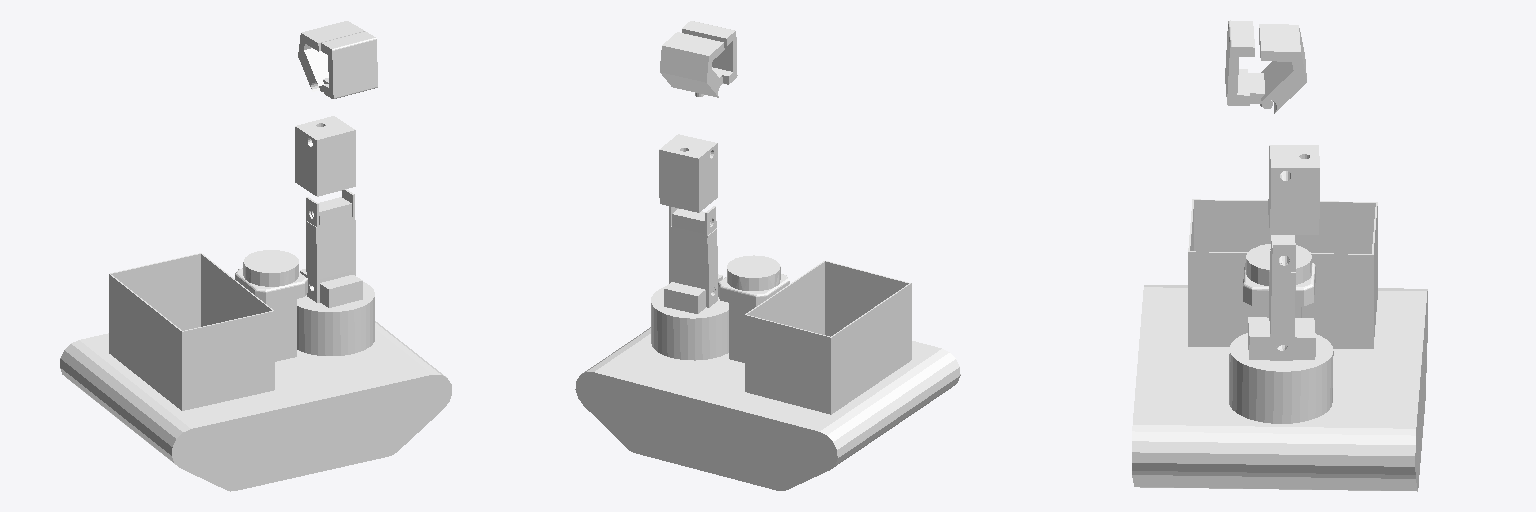
robot.urdf — collectorarmv3:
<?xml version="1.0" encoding="utf-8" ?>
<!-- This URDF was automatically created by SolidWorks to URDF Exporter! Originally created by [author] ([email redacted]) 
     Commit Version: 1.6.0-4-g7f85cfe  Build Version: 1.6.7995.38578
     For more information, please see http://wiki.ros.org/sw_urdf_exporter -->
<robot name="collectorarmv3">
    <link name="base_link">
        <inertial>
            <origin xyz="-0.000431995749256772 -2.75875484660184E-06 -0.0406498758316452" rpy="0 0 0" />
            <mass value="10.9600818997221" />
            <inertia ixx="0.0945300643837808" ixy="-0.000223188735937972" ixz="0.000290844995432058" iyy="0.129474221651259" iyz="1.85713367578688E-06" izz="0.19332472651431" />
        </inertial>
        <visual>
            <origin xyz="0 0 0" rpy="0 0 0" />
            <geometry>
                <mesh filename="package://collectorarmv3/meshes/base_link.STL" />
            </geometry>
            <material name="">
                <color rgba="1 1 1 1" />
            </material>
        </visual>
        <collision>
            <origin xyz="0 0 0" rpy="0 0 0" />
            <geometry>
                <mesh filename="package://collectorarmv3/meshes/base_link.STL" />
            </geometry>
        </collision>
    </link>
    <link name="arm_base">
        <inertial>
            <origin xyz="3.96827550051507E-19 2.0171905535581E-18 0.0360865793498005" rpy="0 0 0" />
            <mass value="0.665047517627195" />
            <inertia ixx="0.000801321710505508" ixy="3.3881317890172E-21" ixz="-9.62737282624216E-21" iyy="0.0007819945070614" iyz="-5.9031349403871E-21" izz="0.000931687532031113" />
        </inertial>
        <visual>
            <origin xyz="0 0 0" rpy="0 0 0" />
            <geometry>
                <mesh filename="package://collectorarmv3/meshes/arm_base.STL" />
            </geometry>
            <material name="">
                <color rgba="1 1 1 1" />
            </material>
        </visual>
        <collision>
            <origin xyz="0 0 0" rpy="0 0 0" />
            <geometry>
                <mesh filename="package://collectorarmv3/meshes/arm_base.STL" />
            </geometry>
        </collision>
    </link>
    <joint name="arm_base" type="revolute">
        <origin xyz="0.1103 0.00070444 0" rpy="0.015992 0.00035692 -3.1094" />
        <parent link="base_link" />
        <child link="arm_base" />
        <axis xyz="0 0 1" />
        <limit lower="-2.09" upper="2.09" effort="1.96" velocity="2.09" />
    </joint>
    <link name="joint1">
        <inertial>
            <origin xyz="-1.06007213437332E-17 -0.0527192038585681 -1.48227086225832E-17" rpy="0 0 0" />
            <mass value="0.121429178051326" />
            <inertia ixx="0.000117162142598077" ixy="-3.28382906299749E-21" ixz="-1.05879118406788E-20" iyy="4.05821278174089E-05" iyz="6.06377417822124E-22" izz="8.93455922872461E-05" />
        </inertial>
        <visual>
            <origin xyz="0 0 0" rpy="0 0 0" />
            <geometry>
                <mesh filename="package://collectorarmv3/meshes/joint1.STL" />
            </geometry>
            <material name="">
                <color rgba="1 1 1 1" />
            </material>
        </visual>
        <collision>
            <origin xyz="0 0 0" rpy="0 0 0" />
            <geometry>
                <mesh filename="package://collectorarmv3/meshes/joint1.STL" />
            </geometry>
        </collision>
    </link>
    <joint name="joint1" type="revolute">
        <origin xyz="0 0 0.0735" rpy="-1.5708 0 -1.5708" />
        <parent link="arm_base" />
        <child link="joint1" />
        <axis xyz="0 0 -1" />
        <limit lower="-1.40" upper="1.40" effort="1.96" velocity="2.09" />
    </joint>
    <link name="joint2">
        <inertial>
            <origin xyz="8.06987396623172E-19 -0.0464329078590103 4.00725548587514E-18" rpy="0 0 0" />
            <mass value="0.131283140376496" />
            <inertia ixx="0.000146883833506881" ixy="-2.08493411388024E-21" ixz="-4.02340649945793E-21" iyy="4.57093102663371E-05" iyz="-1.27029789240976E-20" izz="0.000115415073146958" />
        </inertial>
        <visual>
            <origin xyz="0 0 0" rpy="0 0 0" />
            <geometry>
                <mesh filename="package://collectorarmv3/meshes/joint2.STL" />
            </geometry>
            <material name="">
                <color rgba="1 1 1 1" />
            </material>
        </visual>
        <collision>
            <origin xyz="0 0 0" rpy="0 0 0" />
            <geometry>
                <mesh filename="package://collectorarmv3/meshes/joint2.STL" />
            </geometry>
        </collision>
    </link>
    <joint name="joint2" type="revolute">
        <origin xyz="0 -0.1045 0" rpy="0 0 0" />
        <parent link="joint1" />
        <child link="joint2" />
        <axis xyz="0 0 1" />
        <limit lower="-2.09" upper="2.09" effort="1.96" velocity="2.09" />
    </joint>
    <link name="joint3">
        <inertial>
            <origin xyz="-0.0103919780315799 -0.0307503516421673 -2.41086000142766E-18" rpy="0 0 0" />
            <mass value="0.219866762368024" />
            <inertia ixx="0.000172745723837527" ixy="2.03545346580772E-06" ixz="-7.19978005166155E-21" iyy="0.000115202012236034" iyz="-5.95712739238095E-21" izz="0.000159888587287608" />
        </inertial>
        <visual>
            <origin xyz="0 0 0" rpy="0 0 0" />
            <geometry>
                <mesh filename="package://collectorarmv3/meshes/joint3.STL" />
            </geometry>
            <material name="">
                <color rgba="1 1 1 1" />
            </material>
        </visual>
        <collision>
            <origin xyz="0 0 0" rpy="0 0 0" />
            <geometry>
                <mesh filename="package://collectorarmv3/meshes/joint3.STL" />
            </geometry>
        </collision>
    </link>
    <joint name="joint3" type="revolute">
        <origin xyz="0 -0.099 0" rpy="0 0 0" />
        <parent link="joint2" />
        <child link="joint3" />
        <axis xyz="0 0 1" />
        <limit lower="-2.09" upper="2.09" effort="1.96" velocity="2.09" />
    </joint>
    <link name="joint4">
        <inertial>
            <origin xyz="-0.000277596392932254 -0.0281145025536526 -0.0370410686683645" rpy="0 0 0" />
            <mass value="0.0877692790033938" />
            <inertia ixx="6.59352873168157E-05" ixy="5.20638167332848E-07" ixz="5.88851346028871E-07" iyy="8.0183922926345E-05" iyz="-1.1639612690601E-05" izz="4.3801038610085E-05" />
        </inertial>
        <visual>
            <origin xyz="0 0 0" rpy="0 0 0" />
            <geometry>
                <mesh filename="package://collectorarmv3/meshes/joint4.STL" />
            </geometry>
            <material name="">
                <color rgba="1 1 1 1" />
            </material>
        </visual>
        <collision>
            <origin xyz="0 0 0" rpy="0 0 0" />
            <geometry>
                <mesh filename="package://collectorarmv3/meshes/joint4.STL" />
            </geometry>
        </collision>
    </link>
    <joint name="joint4" type="revolute">
        <origin xyz="-0.021 -0.073972 0" rpy="-2.6203 -1.5708 1.0833" />
        <parent link="joint3" />
        <child link="joint4" />
        <axis xyz="0 0 -1" />
        <limit lower="-2.09" upper="2.09" effort="1.96" velocity="2.09" />
    </joint>
    <link name="joint5">
        <inertial>
            <origin xyz="0.0107453852867667 -0.0401379763855603 -2.16840434497101E-18" rpy="0 0 0" />
            <mass value="0.106491203259952" />
            <inertia ixx="7.00067496887712E-05" ixy="1.26099042598823E-05" ixz="9.63499977501767E-21" iyy="6.8864089032206E-05" iyz="-2.64697796016969E-21" izz="5.43700689342052E-05" />
        </inertial>
        <visual>
            <origin xyz="0 0 0" rpy="0 0 0" />
            <geometry>
                <mesh filename="package://collectorarmv3/meshes/joint5.STL" />
            </geometry>
            <material name="">
                <color rgba="1 1 1 1" />
            </material>
        </visual>
        <collision>
            <origin xyz="0 0 0" rpy="0 0 0" />
            <geometry>
                <mesh filename="package://collectorarmv3/meshes/joint5.STL" />
            </geometry>
        </collision>
    </link>
    <joint name="joint5" type="revolute">
        <origin xyz="-0.0015 0 -0.0085873" rpy="1.5708 0.71778 -1.5708" />
        <parent link="joint4" />
        <child link="joint5" />
        <axis xyz="0 0 -1" />
        <limit lower="-0.1" upper="2.09" effort="1.96" velocity="2.09" />
    </joint>
    <transmission name="trans_arm_base">
        <type>transmission_interface/SimpleTransmission</type>
        <joint name="arm_base">
            <hardwareInterface>hardware_interface/EffortJointInterface</hardwareInterface>
        </joint>
        <actuator name="arm_base_motor">
            <hardwareInterface>hardware_interface/EffortJointInterface</hardwareInterface>
            <mechanicalReduction>1</mechanicalReduction>
        </actuator>
    </transmission>
    <transmission name="trans_joint1">
        <type>transmission_interface/SimpleTransmission</type>
        <joint name="joint1">
            <hardwareInterface>hardware_interface/EffortJointInterface</hardwareInterface>
        </joint>
        <actuator name="joint1_motor">
            <hardwareInterface>hardware_interface/EffortJointInterface</hardwareInterface>
            <mechanicalReduction>1</mechanicalReduction>
        </actuator>
    </transmission>
    <transmission name="trans_joint2">
        <type>transmission_interface/SimpleTransmission</type>
        <joint name="joint2">
            <hardwareInterface>hardware_interface/EffortJointInterface</hardwareInterface>
        </joint>
        <actuator name="joint2_motor">
            <hardwareInterface>hardware_interface/EffortJointInterface</hardwareInterface>
            <mechanicalReduction>1</mechanicalReduction>
        </actuator>
    </transmission>
    <transmission name="trans_joint3">
        <type>transmission_interface/SimpleTransmission</type>
        <joint name="joint3">
            <hardwareInterface>hardware_interface/EffortJointInterface</hardwareInterface>
        </joint>
        <actuator name="joint3_motor">
            <hardwareInterface>hardware_interface/EffortJointInterface</hardwareInterface>
            <mechanicalReduction>1</mechanicalReduction>
        </actuator>
    </transmission>
    <transmission name="trans_joint4">
        <type>transmission_interface/SimpleTransmission</type>
        <joint name="joint4">
            <hardwareInterface>hardware_interface/EffortJointInterface</hardwareInterface>
        </joint>
        <actuator name="joint4_motor">
            <hardwareInterface>hardware_interface/EffortJointInterface</hardwareInterface>
            <mechanicalReduction>1</mechanicalReduction>
        </actuator>
    </transmission>
    <transmission name="trans_joint5">
        <type>transmission_interface/SimpleTransmission</type>
        <joint name="joint5">
            <hardwareInterface>hardware_interface/EffortJointInterface</hardwareInterface>
        </joint>
        <actuator name="joint5_motor">
            <hardwareInterface>hardware_interface/EffortJointInterface</hardwareInterface>
            <mechanicalReduction>1</mechanicalReduction>
        </actuator>
    </transmission>
    <gazebo>
        <plugin name="gazebo_ros_control">
            <robotNamespace>/</robotNamespace>
        </plugin>
    </gazebo>
</robot>

--- Facts derived from the render (not from the file) ---
The picture shows the robot from 3 angles, left to right: view 1: azimuth 30°, elevation 25°; view 2: azimuth 150°, elevation 25°; view 3: azimuth 270°, elevation 25°; orthographic projection.
Robot: collectorarmv3 — 7 links, 6 joints (6 revolute); root link base_link; default pose: every joint at zero.
Visible links, largest first — view 1: base_link, arm_base, joint3, joint2, joint4, joint5, joint1; view 2: base_link, arm_base, joint3, joint5, joint1, joint4, joint2; view 3: base_link, arm_base, joint3, joint5, joint4, joint2, joint1.
Boxes of the visible links, x1,y1,x2,y2 form: base_link: (60, 250, 451, 491); arm_base: (297, 269, 374, 355); joint3: (295, 116, 355, 196); joint2: (306, 197, 355, 302); joint4: (319, 31, 377, 98); joint5: (298, 21, 364, 91); joint1: (306, 189, 354, 286); base_link: (575, 255, 960, 490); arm_base: (651, 274, 728, 360); joint3: (659, 134, 717, 212); joint5: (660, 32, 724, 97); joint1: (669, 206, 716, 302); joint4: (682, 21, 737, 96); joint2: (669, 209, 717, 307); base_link: (1132, 199, 1427, 491); arm_base: (1229, 317, 1333, 423); joint3: (1268, 145, 1319, 234); joint5: (1259, 24, 1306, 113); joint4: (1225, 20, 1272, 108); joint2: (1269, 235, 1295, 360); joint1: (1270, 243, 1295, 347).
Size in the robot's own frame: 0.4096 by 0.3135 by 0.5303 metres.
7 mesh visuals loaded from 7 distinct referenced files (7 binary STL).
